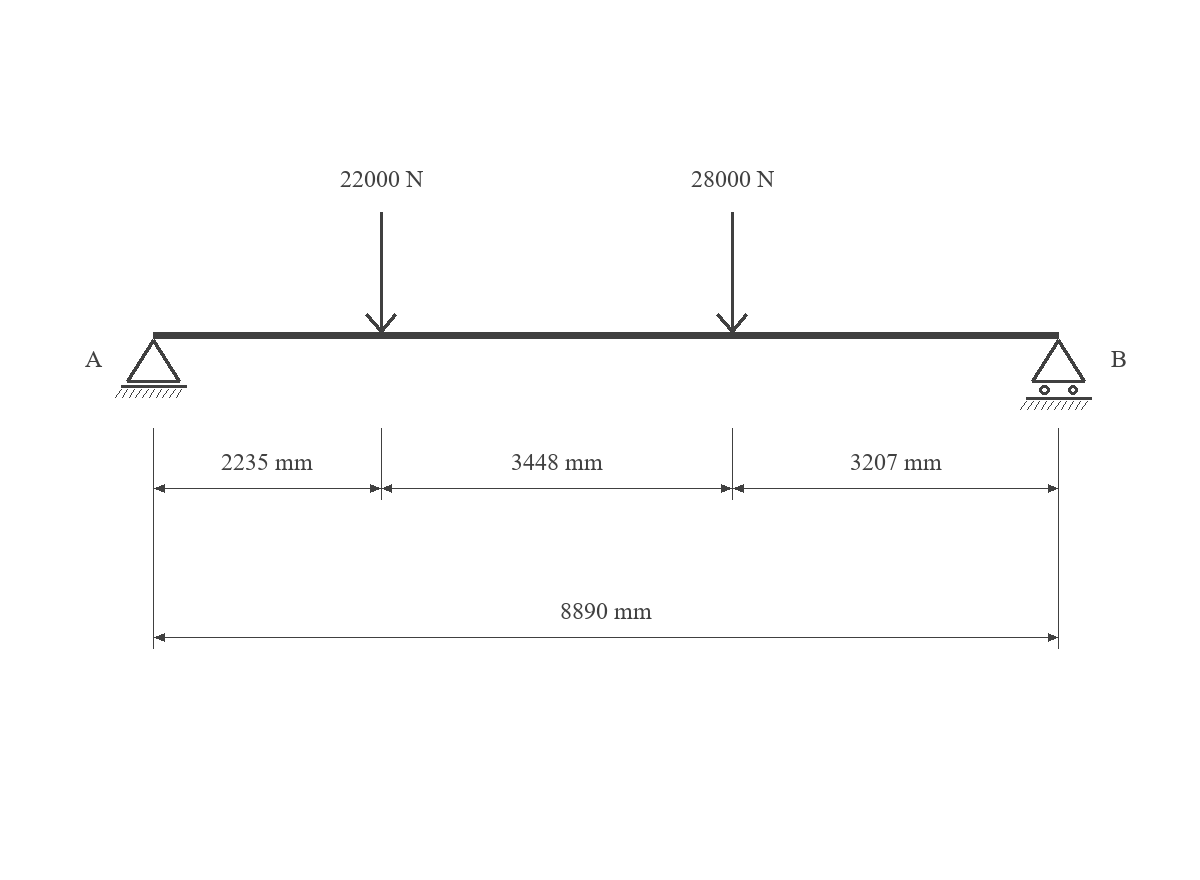pin_support: (115, 339, 187, 398)
point_load: (365, 212, 397, 333), (716, 212, 748, 333)
roller_support: (1020, 339, 1092, 410)
